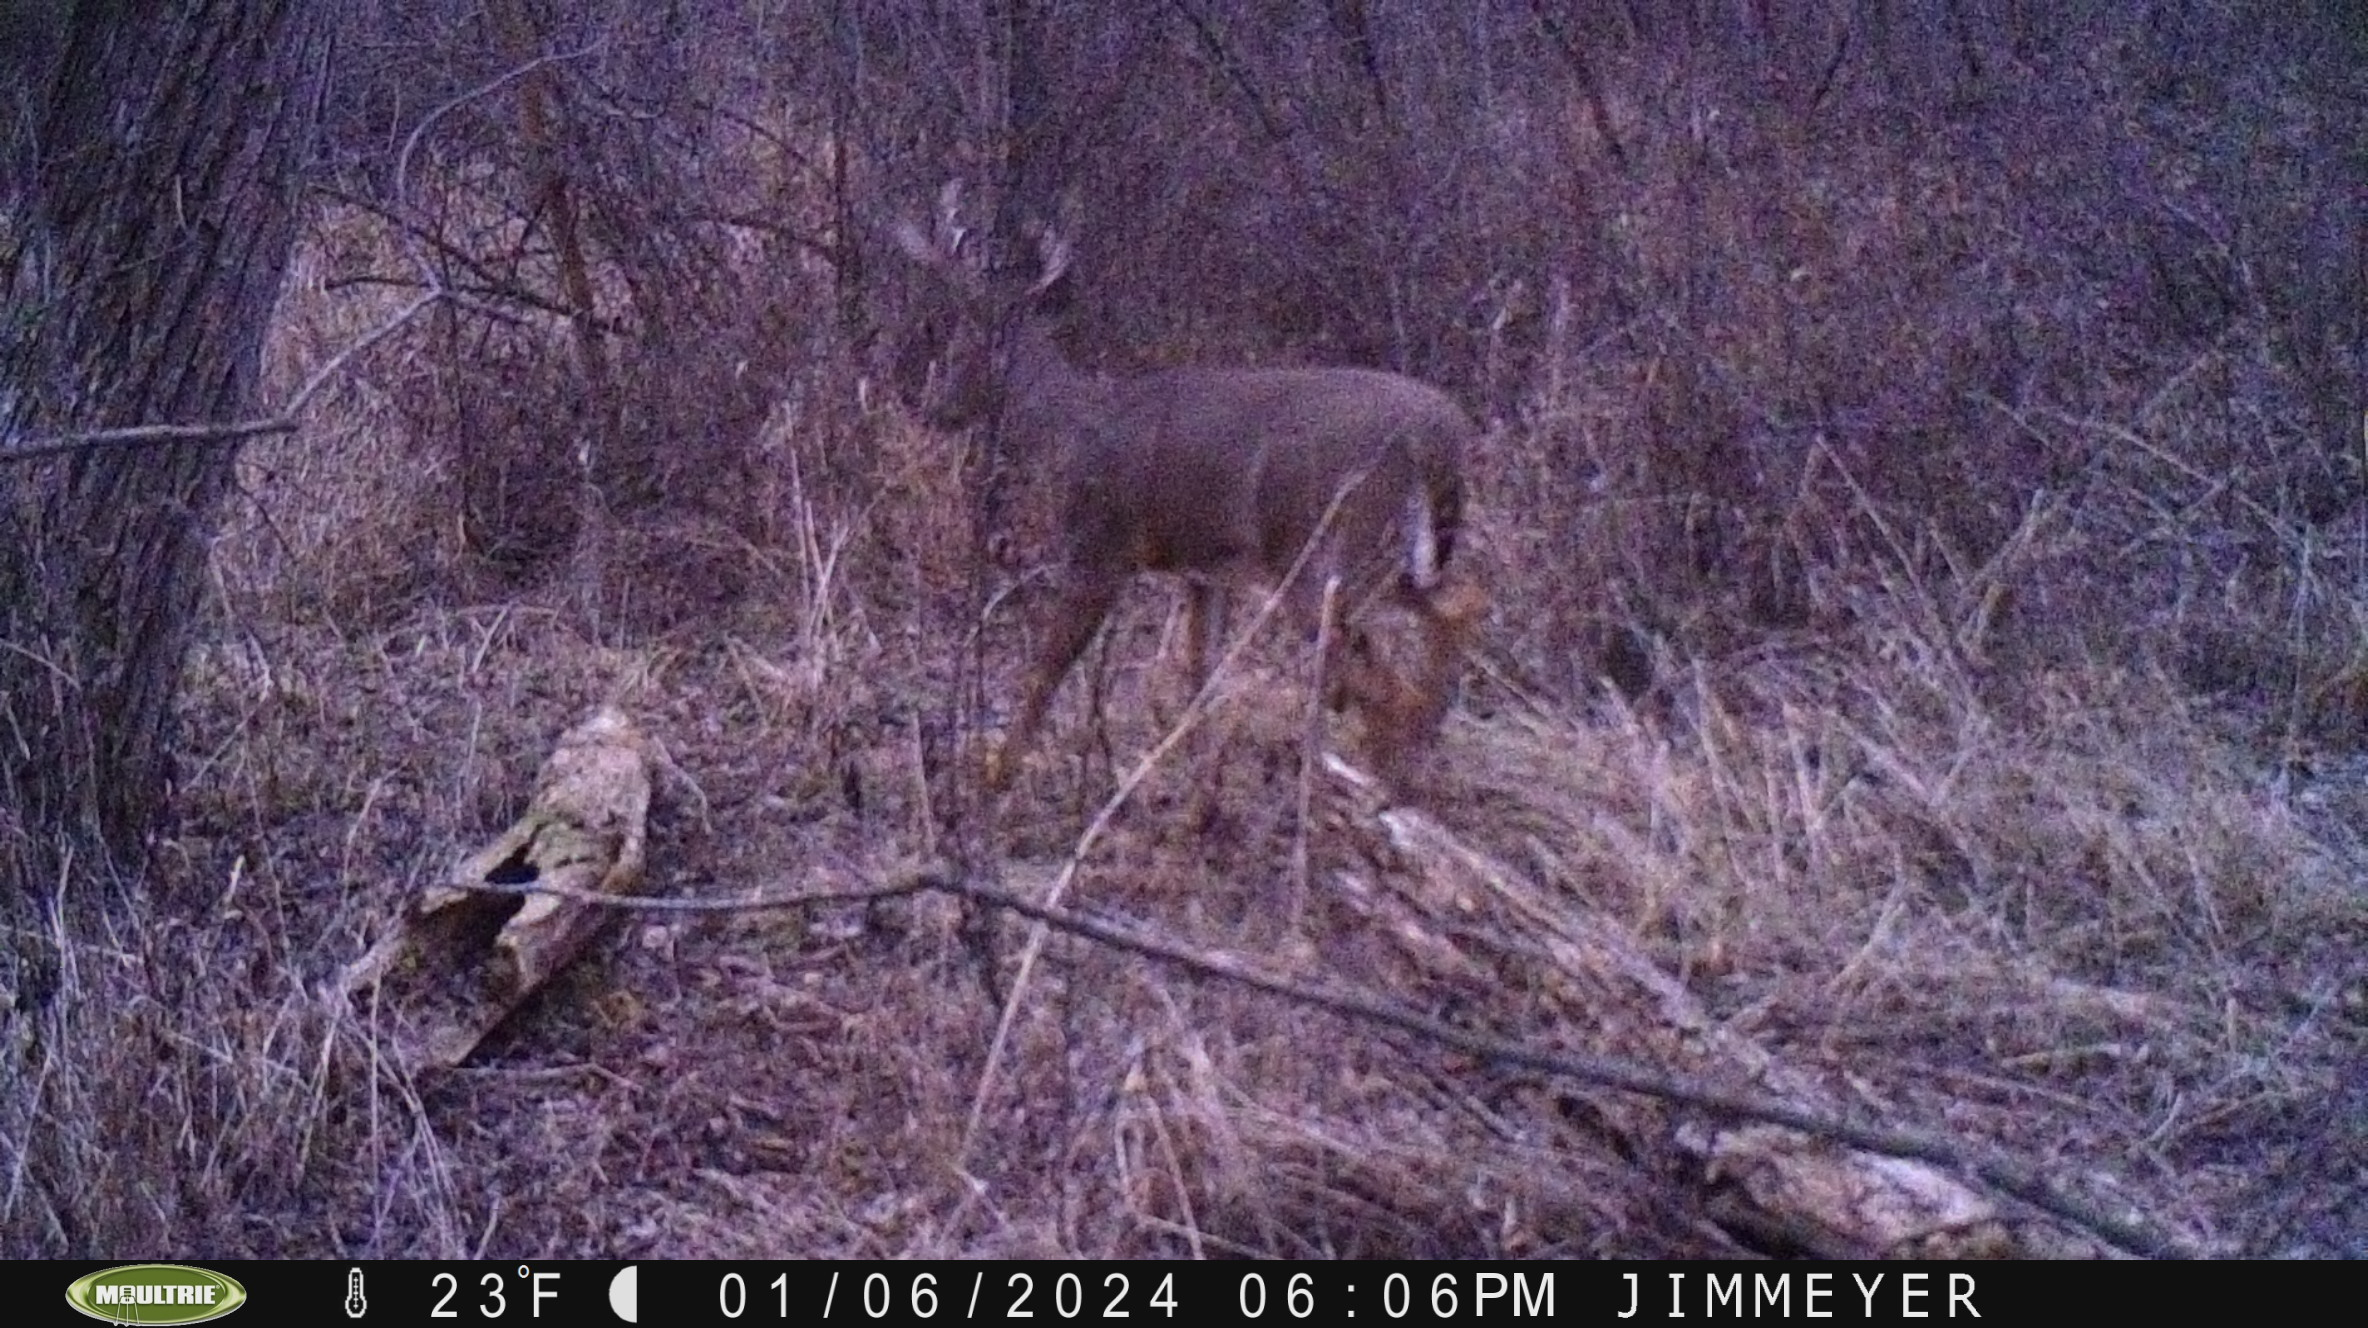DeerBuck: (899, 167, 1478, 789)
DeerBuckHead: (899, 168, 1084, 427)
